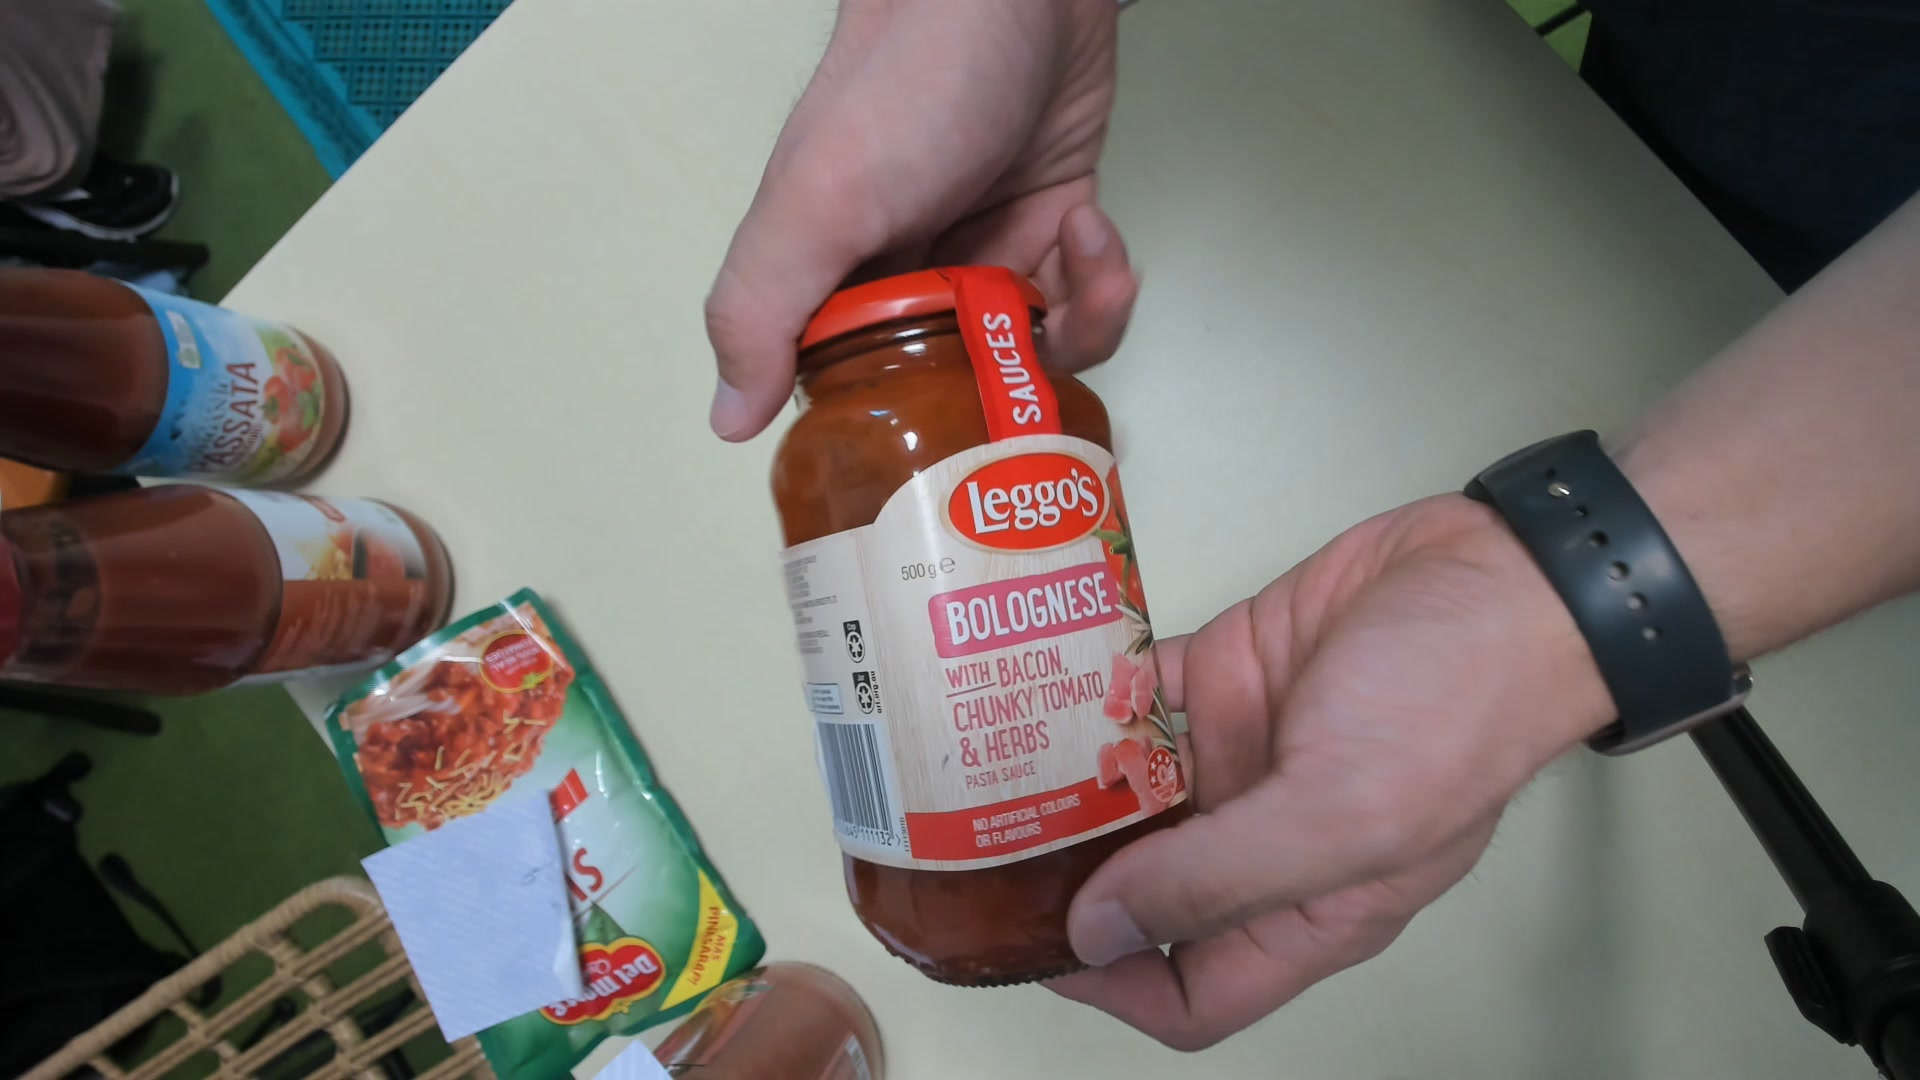PastaSauce_500-599g_Halal_NonHealthy: (774, 265, 1205, 994)
